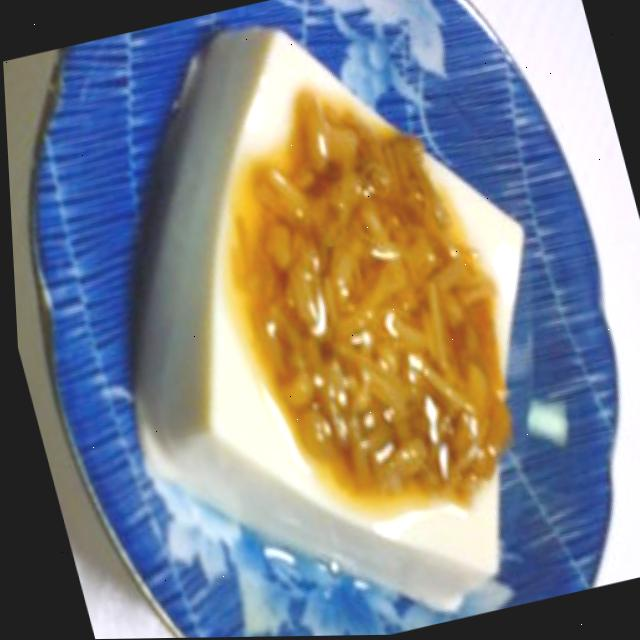豆腐料理: (33, 0, 610, 640)
